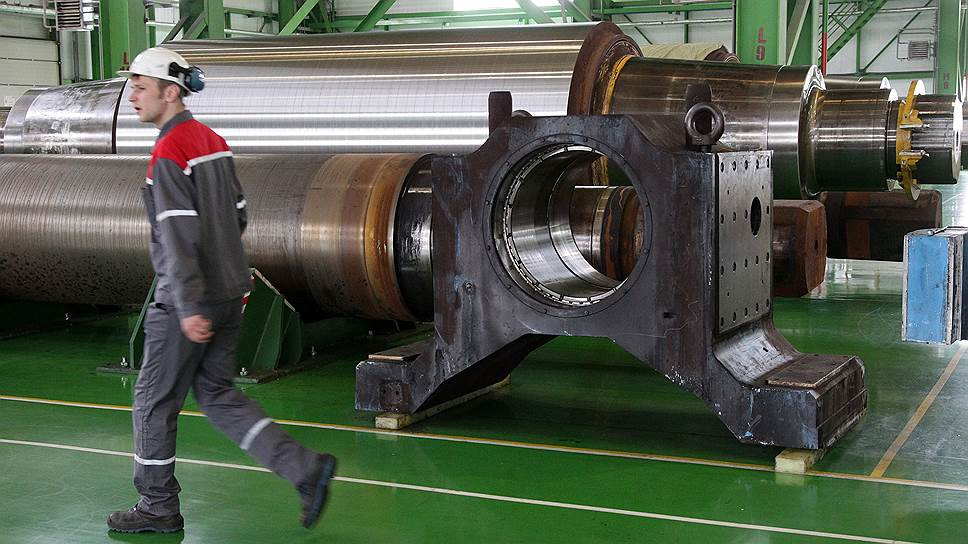person: (107, 46, 338, 533)
